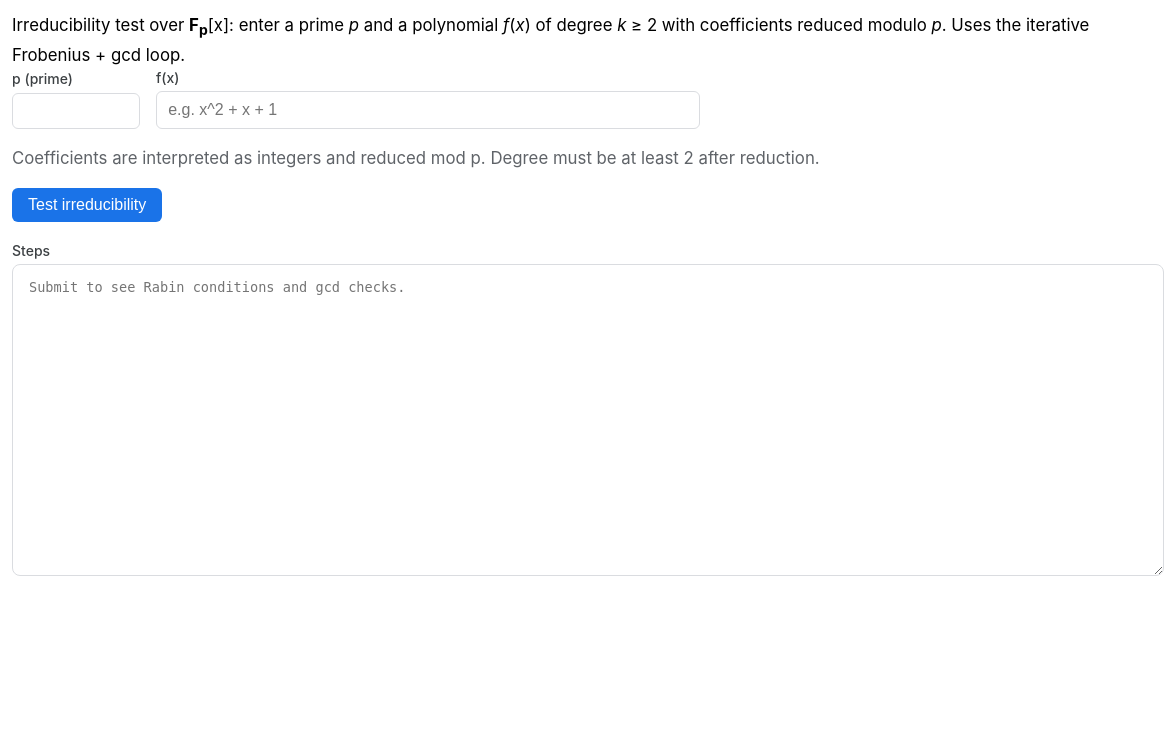
Test: FpIrreduciblePage › shows error for invalid p
Type "4" into the number field named "p prime" at (76, 111), box [12,93,140,129]
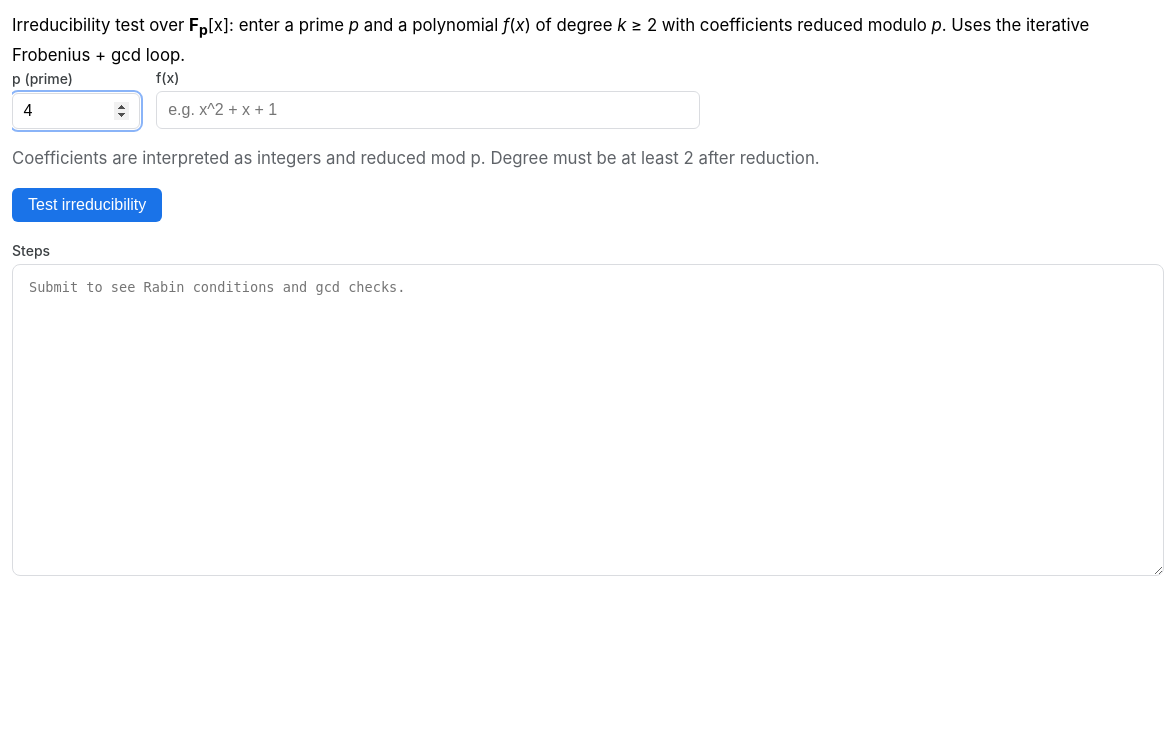
Type "x^2+1" into the field named "f(x) polynomial" at (428, 110), box [156,91,700,129]
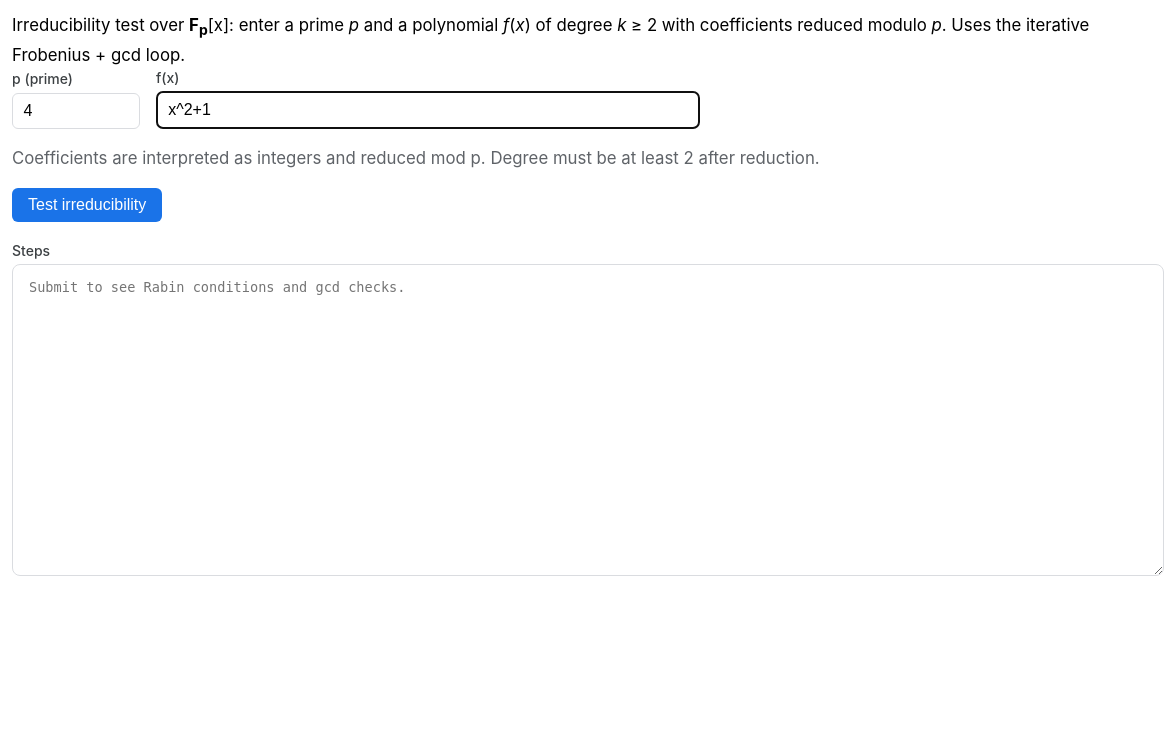
Click the button "Test irreducibility" at (87, 205), box [12,188,162,222]
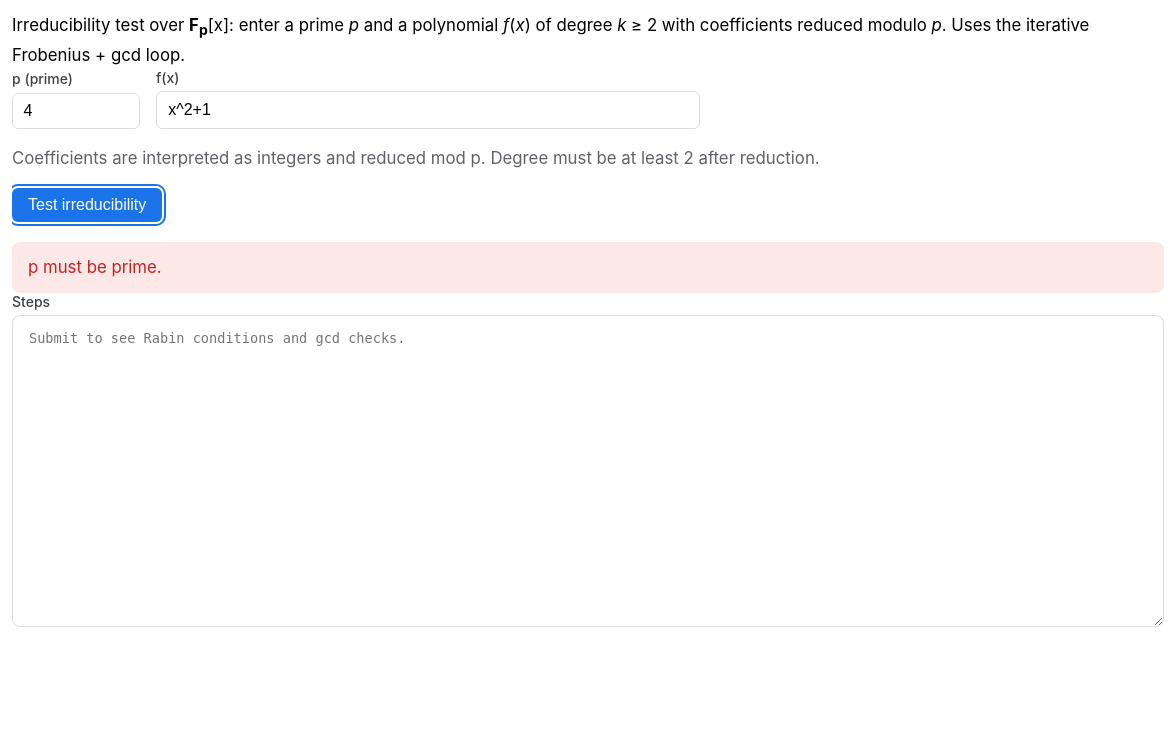
Now the message shows "prime", box [28,257,162,277]
